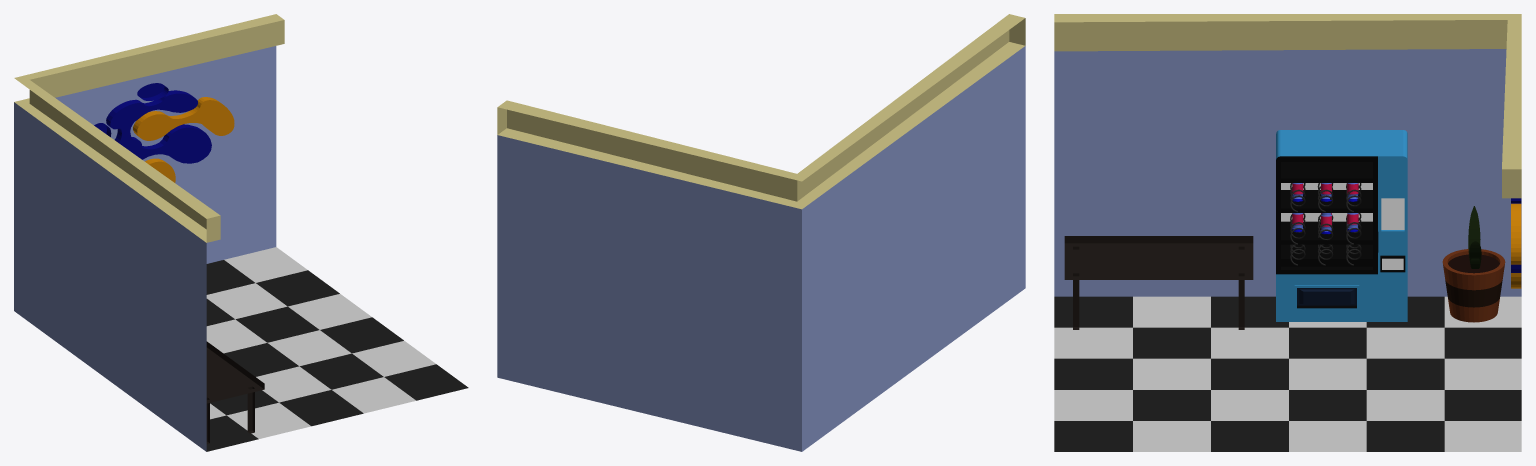
File: AnimatedObject0007.obj
The picture shows the model from 3 angles, left to right: view 1: azimuth 30°, elevation 25°; view 2: azimuth 150°, elevation 25°; view 3: azimuth 270°, elevation 25°; orthographic projection. The views are drawn at different scales.
Parts seen in each view (by area): view 1: ruangan_Cube.003, meja_Cube.004, logo_Circle.005, logo.001_Circle.001, logo.005_Circle.002; view 2: ruangan_Cube.003; view 3: ruangan_Cube.003, vending_machine_Cube.001, meja_Cube.004, pot_bunga_Cylinder, per_second\_Spiral.010, Plane.007, logo_Circle.005.
Boxes of the visible parts, x1=… form: ruangan_Cube.003: x1=14, y1=14, x2=468, y2=451; meja_Cube.004: x1=206, y1=341, x2=264, y2=444; logo_Circle.005: x1=133, y1=97, x2=234, y2=140; logo.001_Circle.001: x1=115, y1=124, x2=211, y2=163; logo.005_Circle.002: x1=106, y1=90, x2=197, y2=132; ruangan_Cube.003: x1=497, y1=14, x2=1025, y2=451; ruangan_Cube.003: x1=1054, y1=14, x2=1521, y2=451; vending_machine_Cube.001: x1=1276, y1=130, x2=1407, y2=321; meja_Cube.004: x1=1064, y1=236, x2=1253, y2=329; pot_bunga_Cylinder: x1=1442, y1=249, x2=1505, y2=322; per_second\_Spiral.010: x1=1290, y1=183, x2=1361, y2=265; Plane.007: x1=1468, y1=206, x2=1481, y2=268; logo_Circle.005: x1=1511, y1=203, x2=1521, y2=264.
Size of the model in its own units: 11.73 by 9.95 by 14.9.
